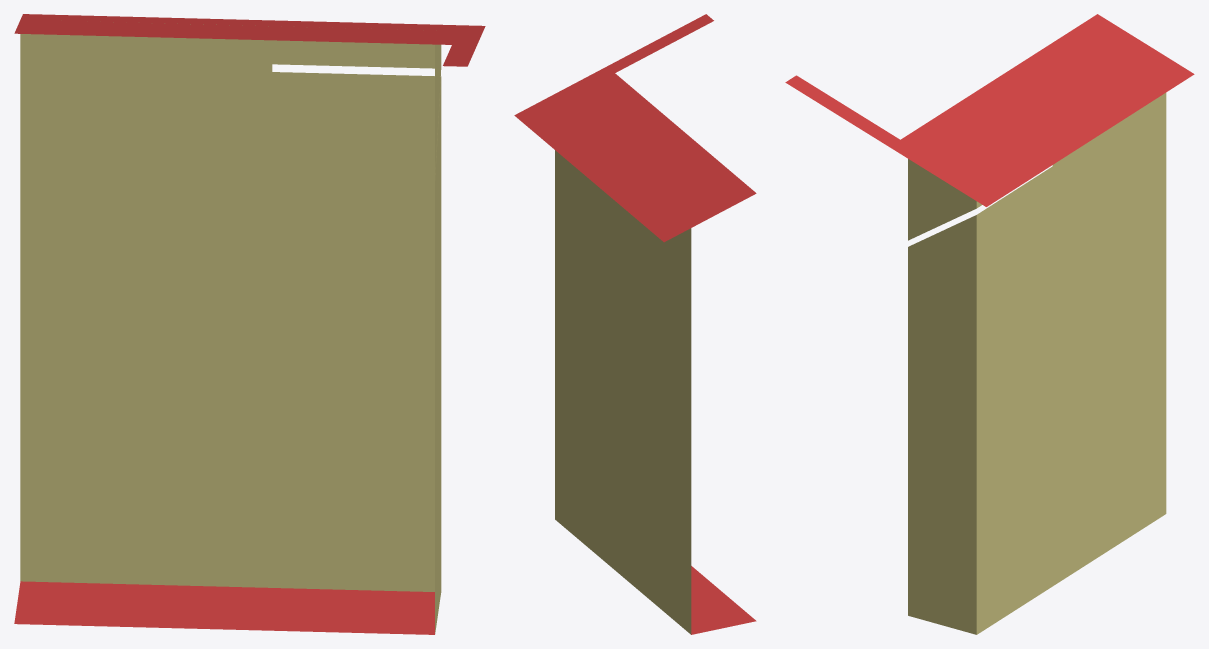
3 renders of one model, left to right at view 1: azimuth 30°, elevation 25°; view 2: azimuth 150°, elevation 25°; view 3: azimuth 270°, elevation 25°, orthographic. The views are drawn at different scales.
Bounding box in the file's own units: 5.55 × 5.99 × 8.33.
